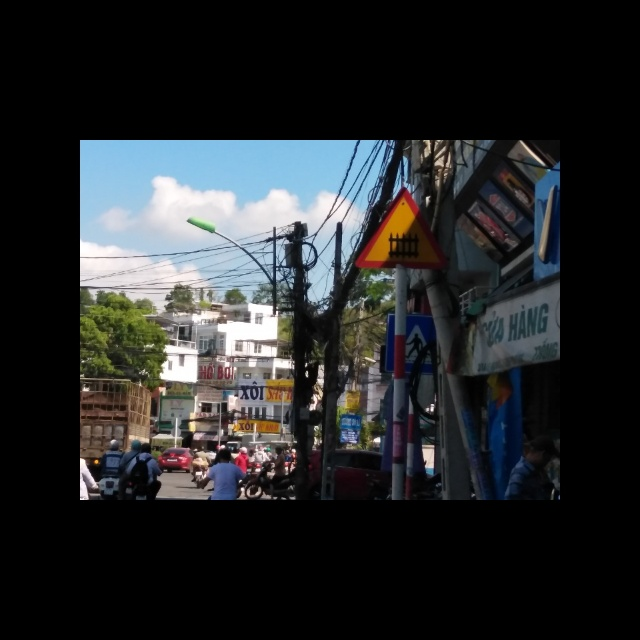Giao nhau với đường sắt có rào chắn: (357, 186, 450, 268)
